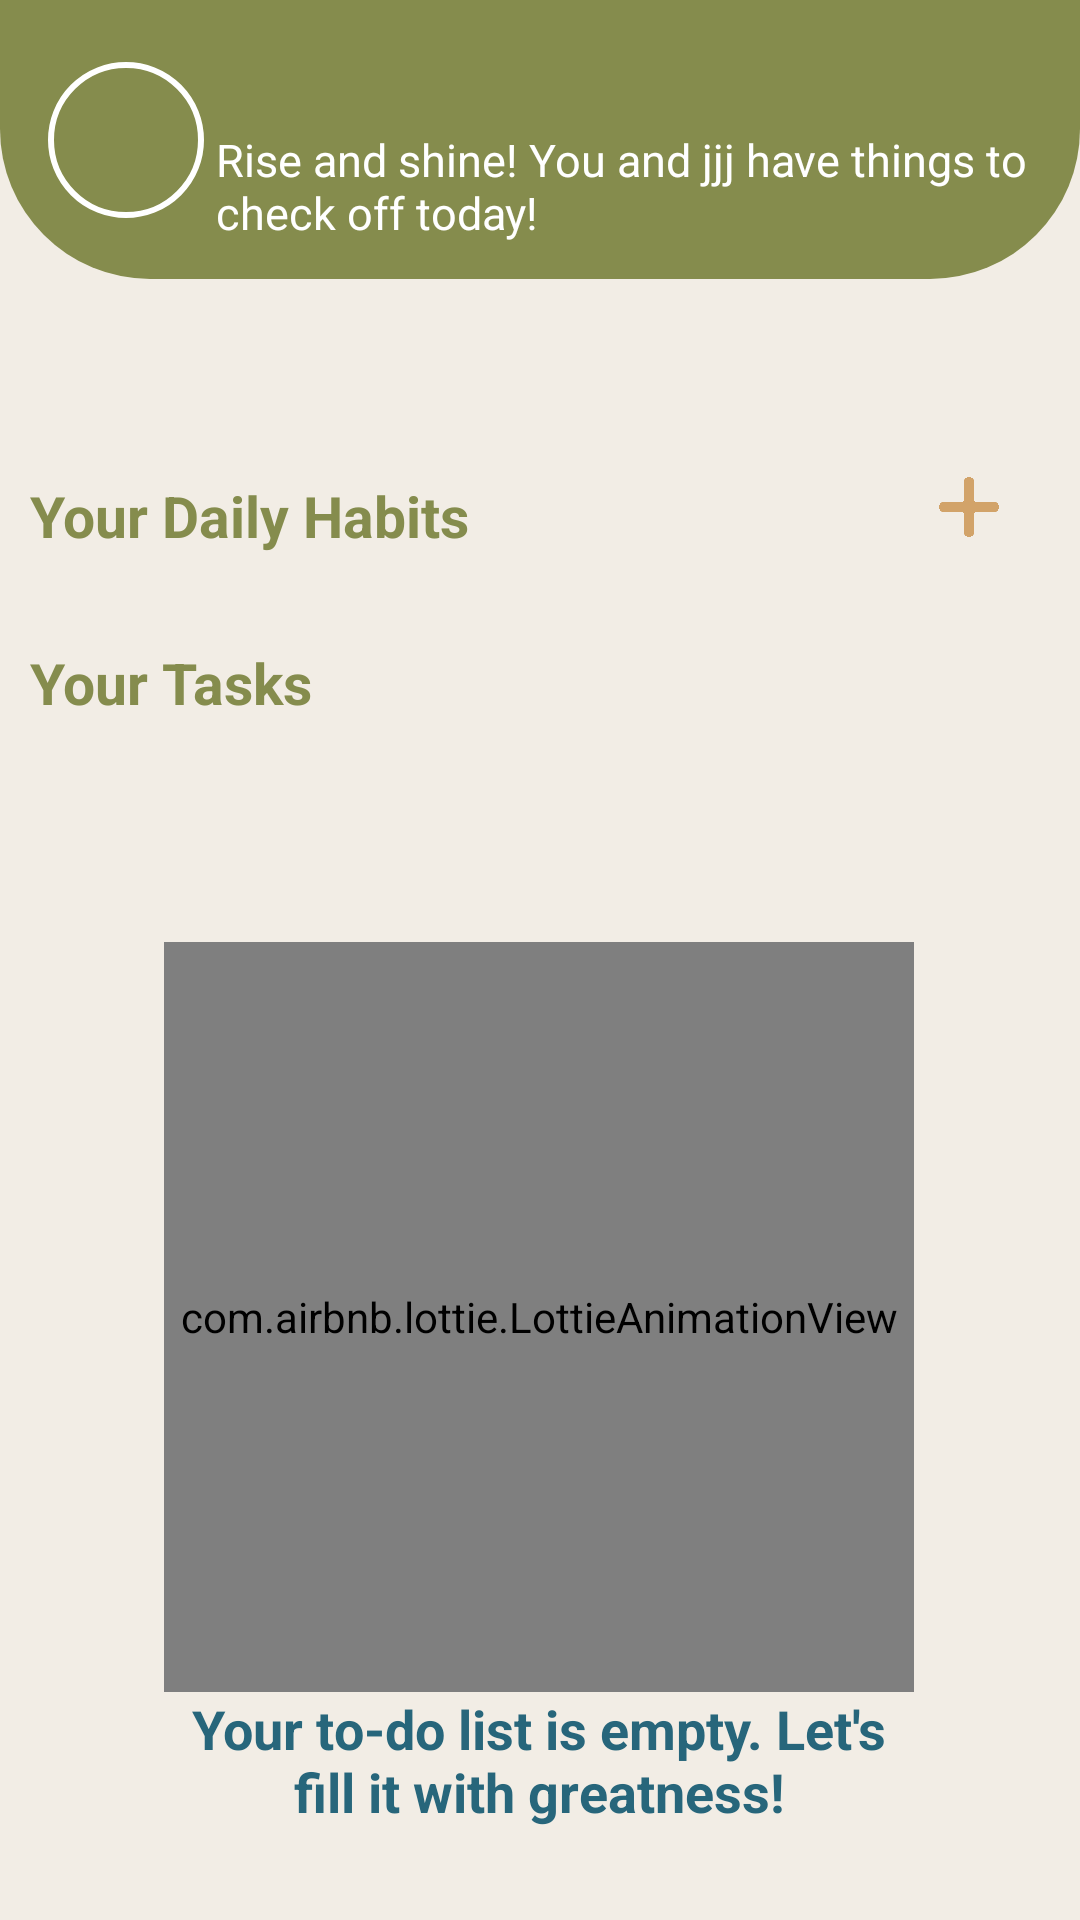

Screen size 1080x1920. Icon name, then its center in pixels as point (x, y):
clickedadd: point (969, 507)
